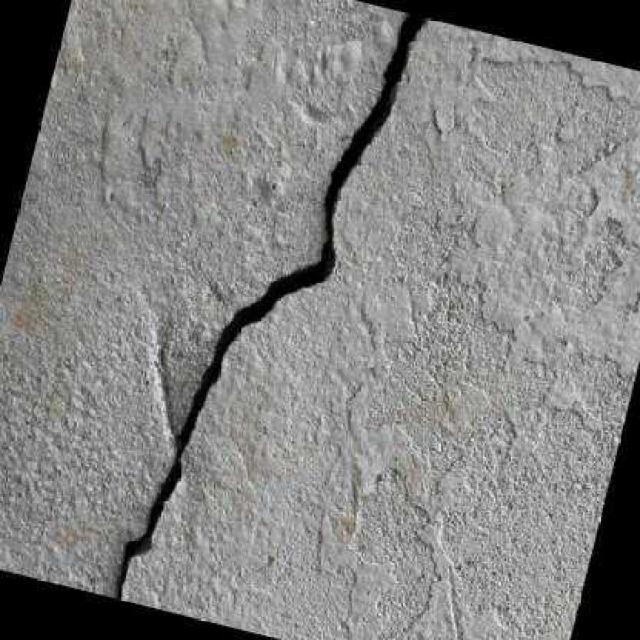D00: (115, 12, 426, 597)
